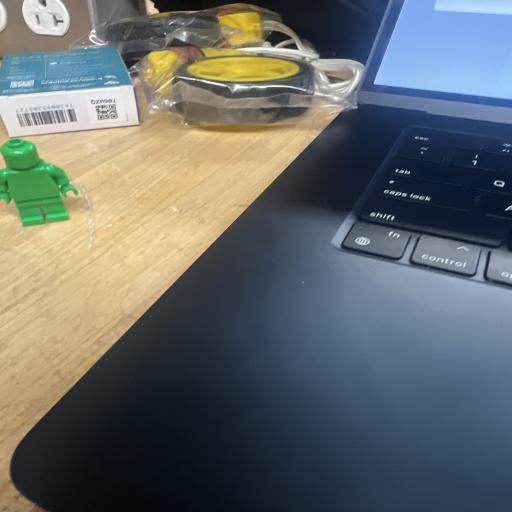green-lego-minifigure-detector: (0, 138, 78, 226)
